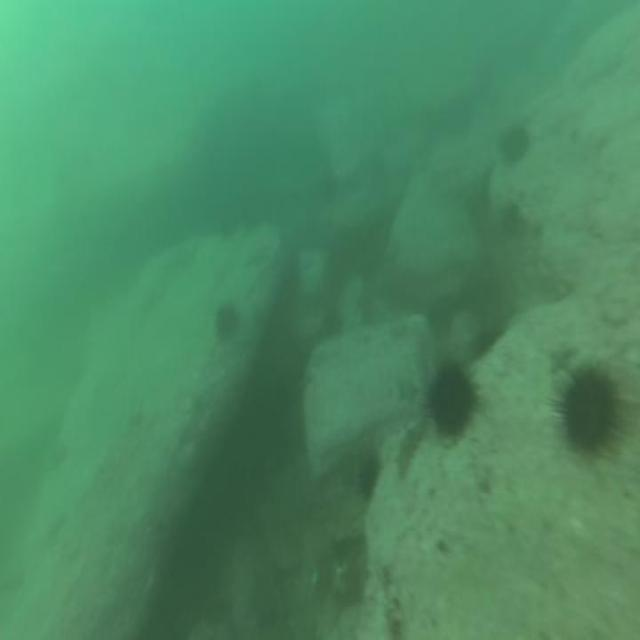echinus: (548, 349, 630, 465), (421, 350, 482, 450), (498, 115, 533, 171), (352, 441, 383, 504), (211, 296, 241, 346)
holothurian: (395, 414, 431, 484)
starfish: (384, 314, 413, 350), (394, 370, 421, 406), (243, 239, 273, 270)
